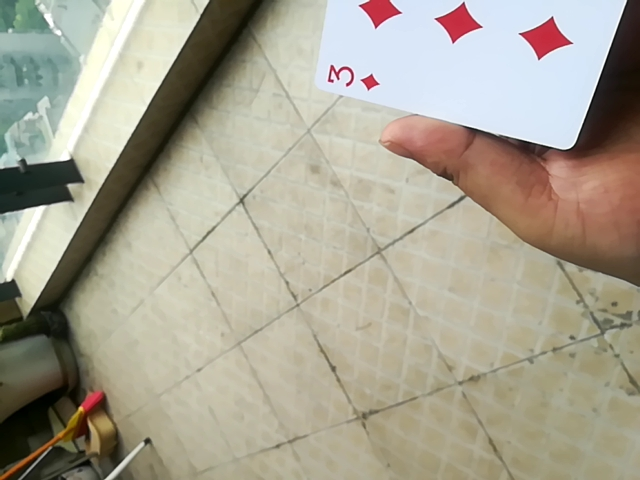fk 3: (305, 0, 635, 153)
